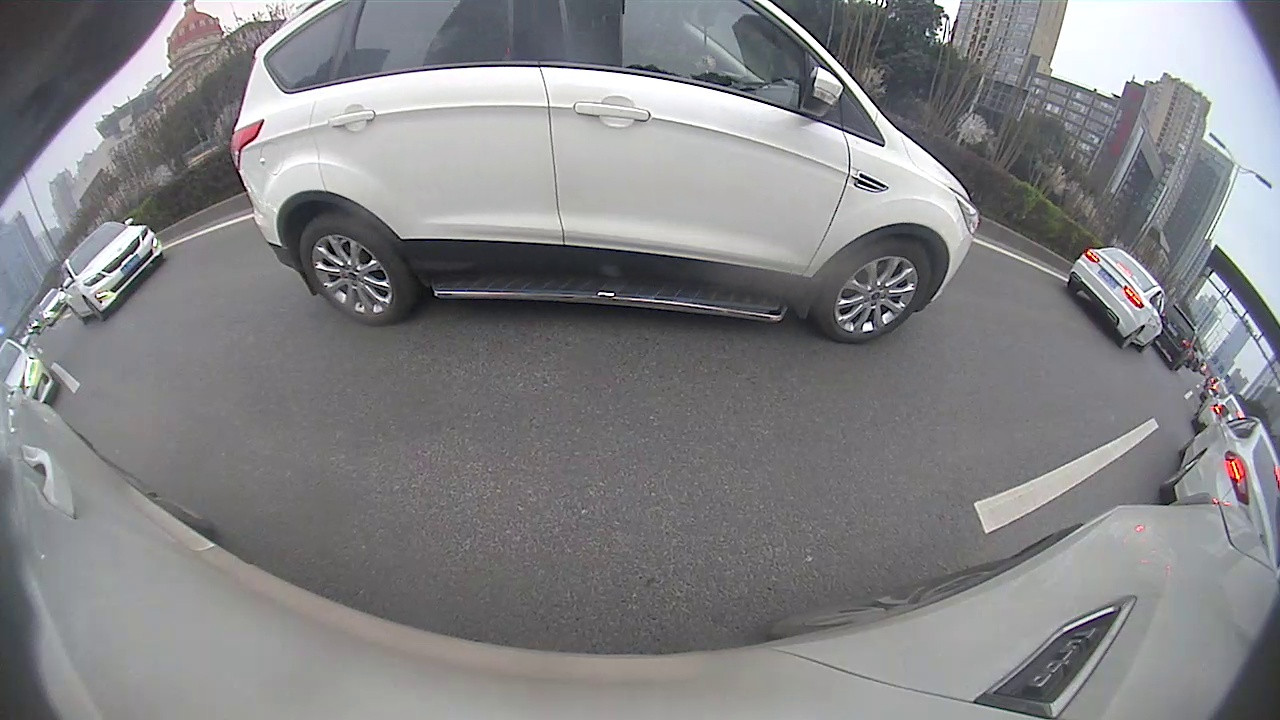car: (227, 2, 982, 345), (1156, 401, 1278, 561), (57, 215, 166, 325), (1069, 245, 1173, 352), (0, 338, 60, 406), (1158, 299, 1198, 374)
front: (811, 237, 930, 343)
rear: (302, 215, 408, 327), (1119, 325, 1144, 353)
